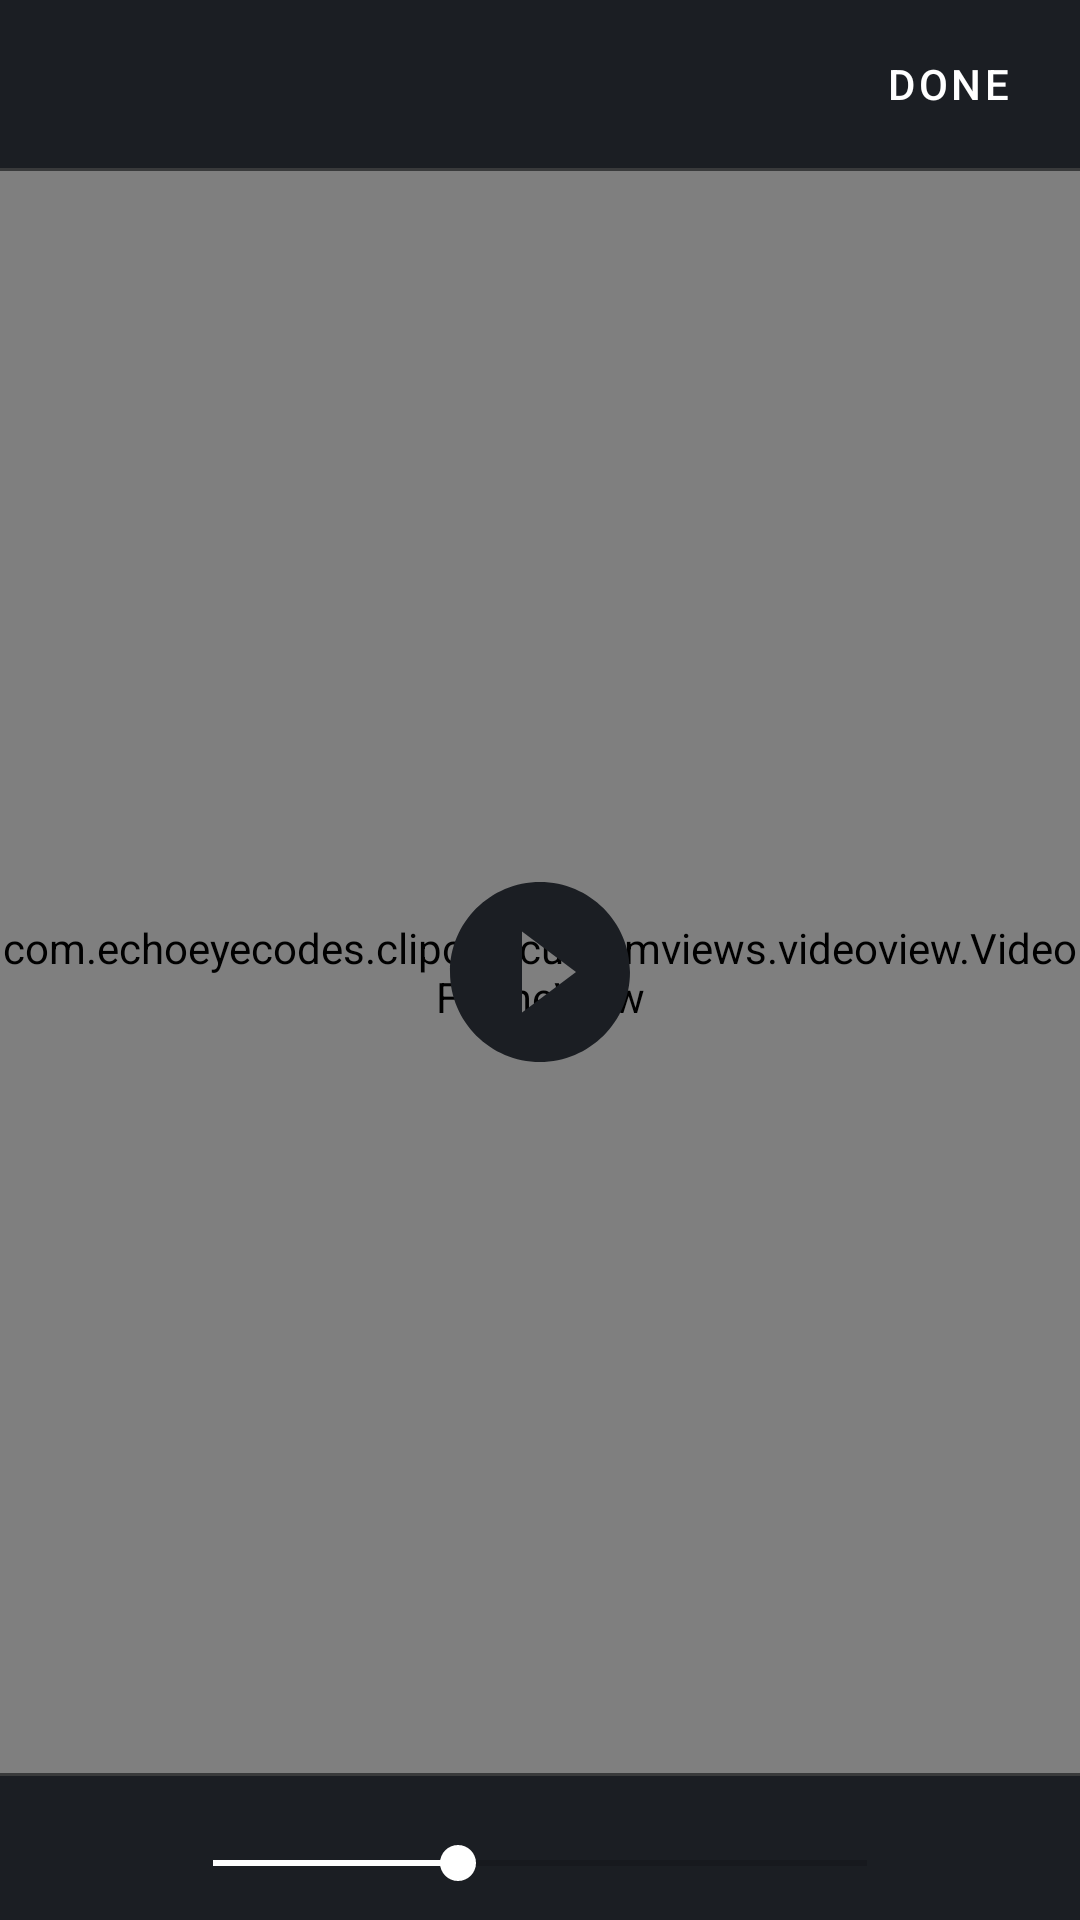

Where to tap for icons on this 1080×1920 app screen, as [x,y]:
play circle: [540,972]
